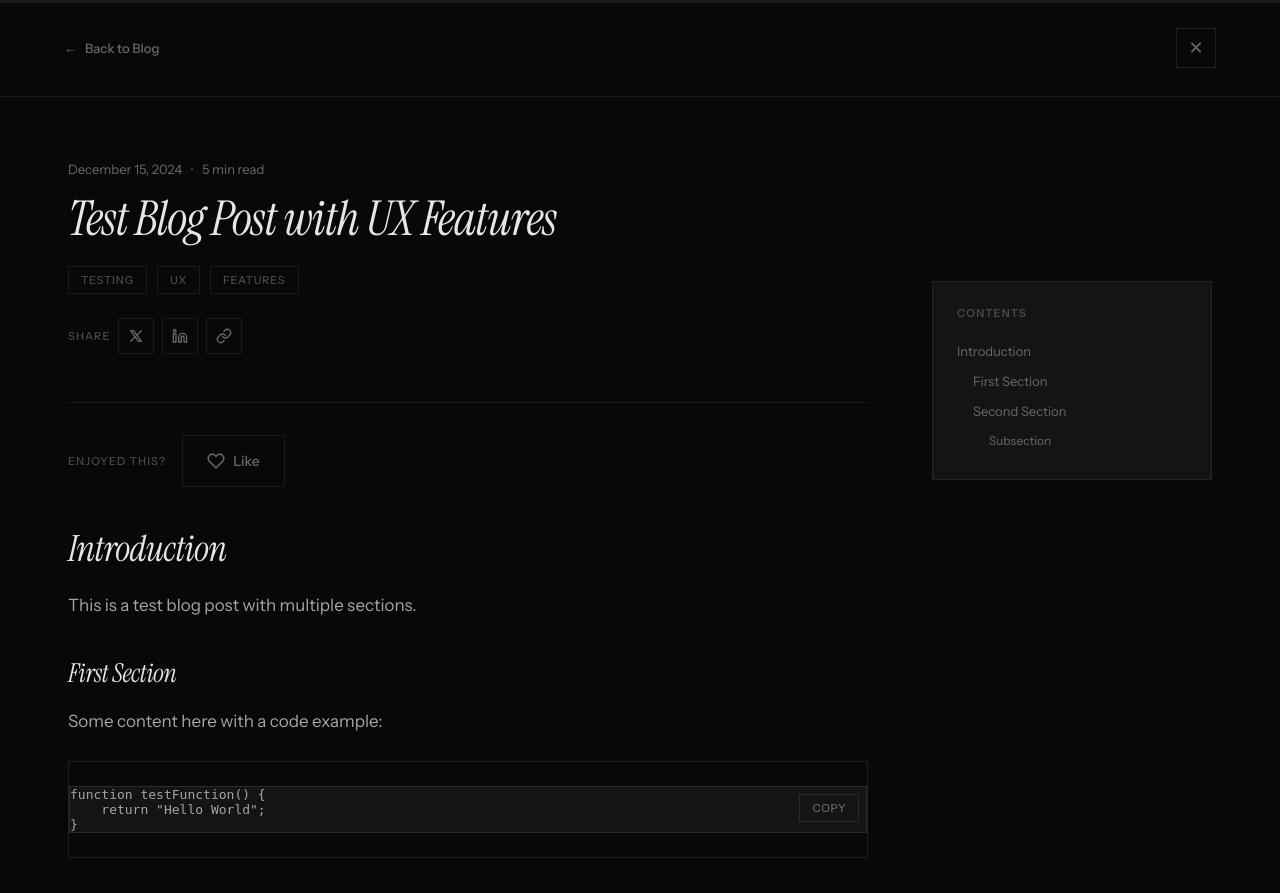
Scenario: BlogPostModal - UX Features › Social Sharing › should copy link to clipboard and show toast
The image size is (1280, 893).
Click the button named "Copy link to clipboard" at (224, 336), box [206,318,242,354]
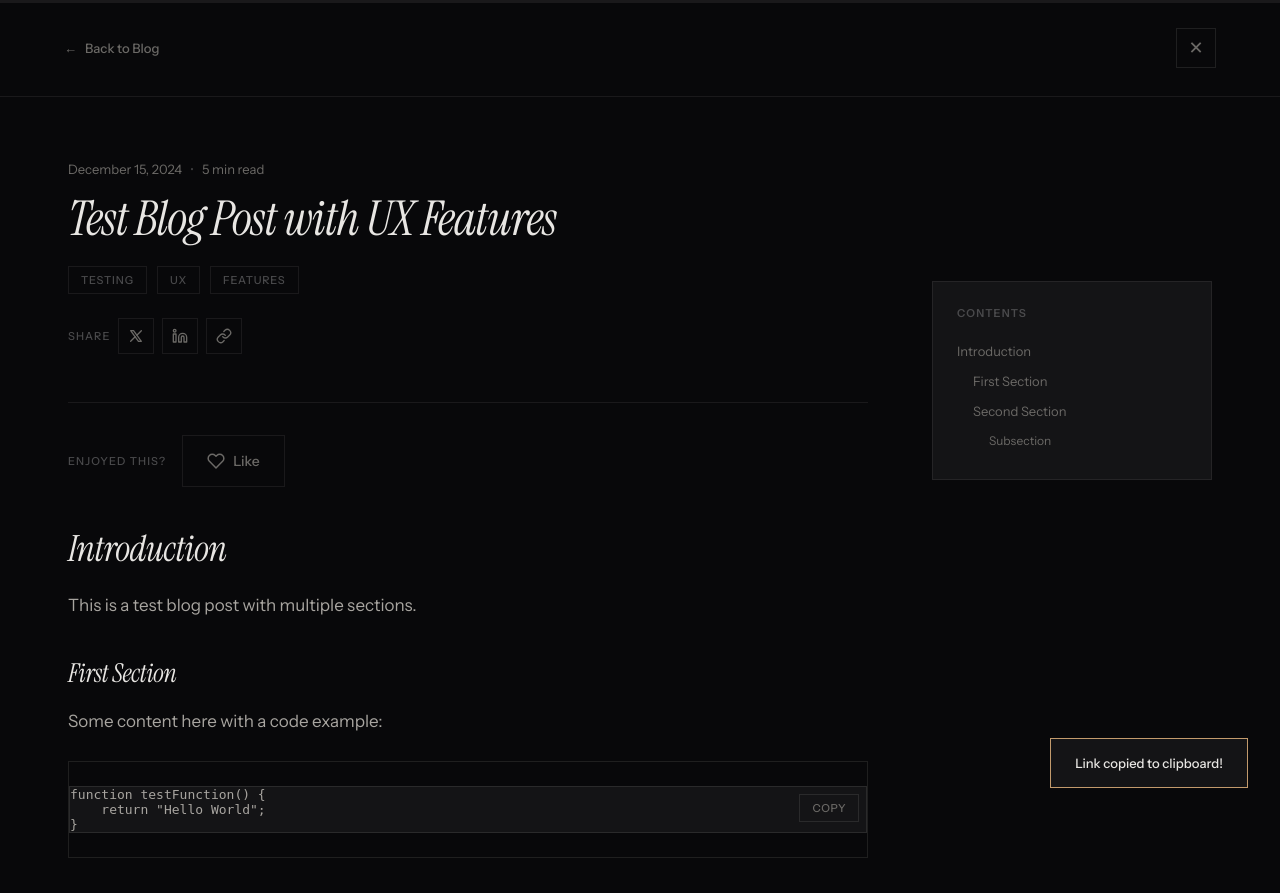
Now the text "Link copied to clipboard!" is shown, box [1050,738,1248,788]
